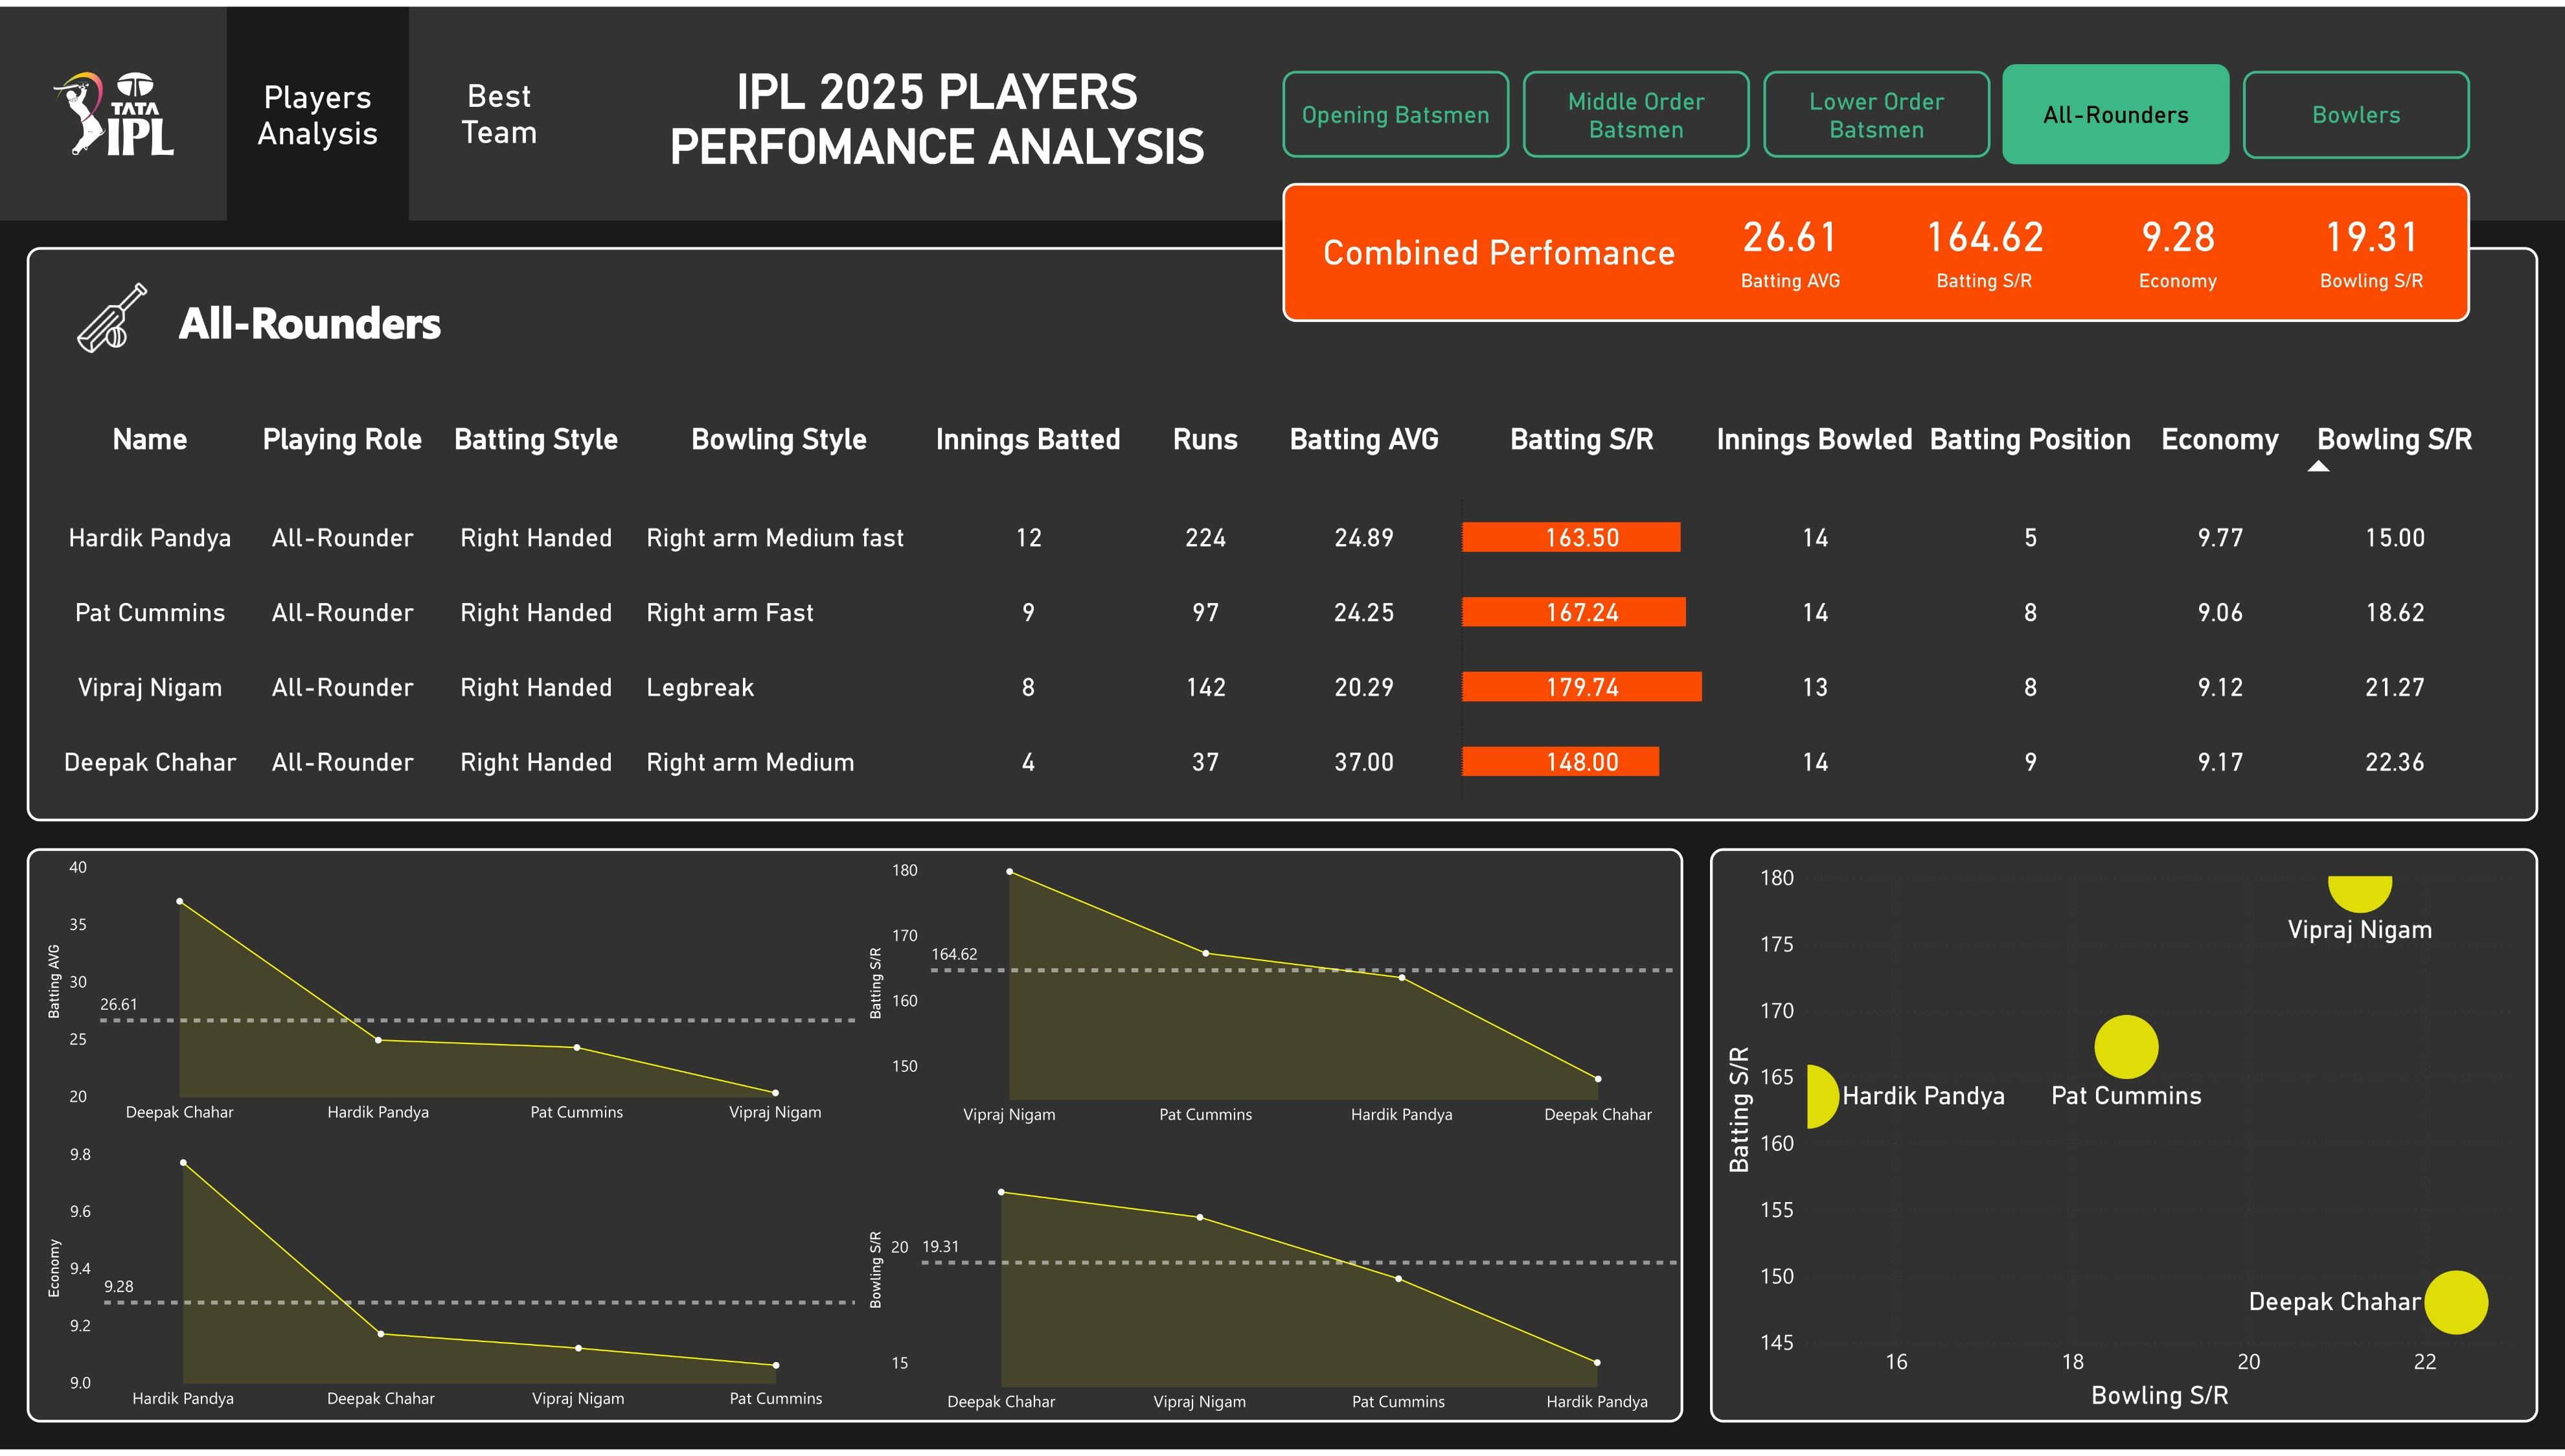

This screenshot's page, from the dashboard's own definition file:
{"tool":"powerbi","page":{"name":"All-Rounders","canvas":[1920,1080],"ordinal":3},"visuals":[{"type":"shape","box":[960,132.2,889.3,103.5],"z":0,"group":"g1"},{"type":"shape","box":[20,630,1240,430],"z":0},{"type":"cardVisual","fields":{"Data":["Key_Measures.Batting Avg","Key_Measures.Strike Rate","Key_Measures.Bowling Economy","Key_Measures.Bowling Strike Rate"]},"box":[1267.2,136,582.6,91.8],"z":1000,"group":"g1"},{"type":"shape","box":[20,180,1880,430],"z":1000},{"type":"shape","box":[962.7,155.9,319.2,53.2],"z":2000,"group":"g1"},{"type":"tableEx","fields":{"Values":["All_Players.Players Name","All_Players.Playing Role","All_Players.Batting Style","All_Players.Bowling Style","Key_Measures.Total Innings Batted","Key_Measures.Total Runs","Key_Measures.Batting Avg","Key_Measures.Strike Rate","Key_Measures.Total Innings Bowled","Key_Measures.Batting Position","Key_Measures.Bowling Economy","Key_Measures.Bowling Strike Rate"]},"box":[29.5,288.9,1870.3,321.6],"z":2000},{"type":"scatterChart","title":"Batting Average Vs Strike Rate","fields":{"Y":["Sum(Batsmen_Records.Batting Strike Rate)"],"Series":["All_Players.Players Name"],"X":["Key_Measures.Bowling Strike Rate"]},"box":[1280,630,620,430],"z":3000},{"type":"areaChart","title":"Batting Average Vs Strike Rate","fields":{"Category":["All_Players.Players Name"],"Y":["Key_Measures.Batting Avg"]},"box":[30,630,615,215.7],"z":4000},{"type":"shape","box":[0,0,1920,160],"z":5000},{"type":"shape","box":[119.3,200.7,226,66.7],"z":6000},{"type":"shape","box":[442.9,7.1,517.1,152.9],"z":7000},{"type":"group","id":"g1","title":"Group 1","box":[960,132.2,889.8,103.5],"z":8000},{"type":"image","box":[35,30,100,100],"z":9000},{"type":"actionButton","box":[1140,48,170,65],"z":10000},{"type":"actionButton","box":[1320,48,170,65],"z":11000},{"type":"actionButton","box":[1678.6,48,170,65.7],"z":12000},{"type":"actionButton","box":[1498.6,43,170,75],"z":13000},{"type":"actionButton","box":[960,48,170,65],"z":14000},{"type":"actionButton","box":[306,0,135.7,160],"z":15000},{"type":"actionButton","box":[170,0,135.7,161],"z":16000},{"type":"areaChart","title":"Batting Average Vs Strike Rate","fields":{"Category":["All_Players.Players Name"],"Y":["Key_Measures.Strike Rate"]},"box":[645,630.7,615.1,216.4],"z":17000},{"type":"areaChart","title":"Batting Average Vs Strike Rate","fields":{"Category":["All_Players.Players Name"],"Y":["Key_Measures.Bowling Economy"]},"box":[30,845,615.1,215],"z":18000},{"type":"areaChart","title":"Batting Average Vs Strike Rate","fields":{"Category":["All_Players.Players Name"],"Y":["Key_Measures.Bowling Strike Rate"]},"box":[645,845,615.1,217.5],"z":19000},{"type":"image","box":[50,200,68,66],"z":20000}]}

Visuals, with their boxes in screenshot pixels (x1, y1, x2, y2), scaled from the page's 1920x1080 canvas onto the 2565x1456 screenshot:
shape: [1282, 178, 2470, 318]
shape: [27, 849, 1683, 1429]
cardVisual - Key_Measures.Batting Avg x Key_Measures.Strike Rate: [1693, 183, 2471, 307]
shape: [27, 243, 2538, 823]
shape: [1286, 210, 1713, 282]
tableEx - All_Players.Players Name x All_Players.Playing Role: [40, 389, 2538, 823]
"Batting Average Vs Strike Rate" scatterChart: [1710, 849, 2538, 1429]
"Batting Average Vs Strike Rate" areaChart: [40, 849, 861, 1140]
shape: [0, 0, 2564, 216]
shape: [159, 271, 461, 361]
shape: [591, 10, 1282, 216]
"Group 1" group: [1282, 178, 2471, 318]
image: [47, 40, 180, 176]
actionButton: [1523, 65, 1750, 152]
actionButton: [1763, 65, 1990, 152]
actionButton: [2242, 65, 2470, 154]
actionButton: [2002, 58, 2229, 159]
actionButton: [1282, 65, 1510, 152]
actionButton: [409, 0, 590, 216]
actionButton: [227, 0, 409, 217]
"Batting Average Vs Strike Rate" areaChart: [861, 850, 1683, 1142]
"Batting Average Vs Strike Rate" areaChart: [40, 1139, 862, 1429]
"Batting Average Vs Strike Rate" areaChart: [861, 1139, 1683, 1433]
image: [67, 269, 157, 359]
